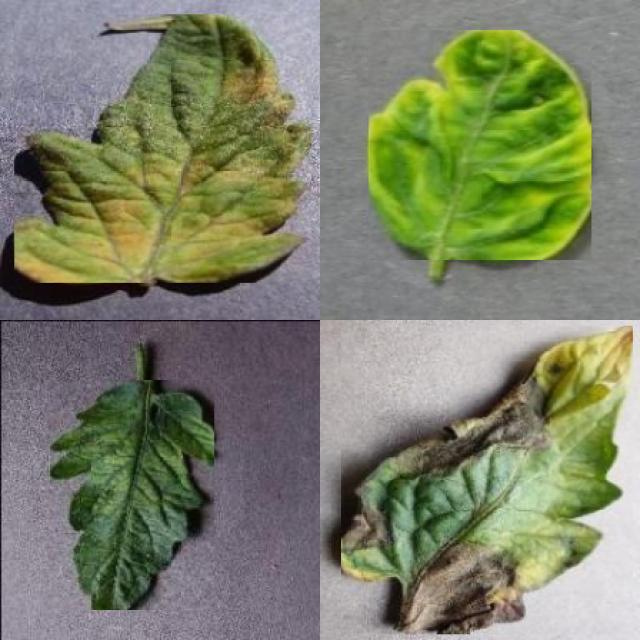Late Blight: (340, 326, 633, 634)
Leaf Mold: (15, 14, 311, 282)
Mosaic Virus: (47, 380, 214, 610)
Yellow Leaf Curl Virus: (368, 30, 592, 260)
